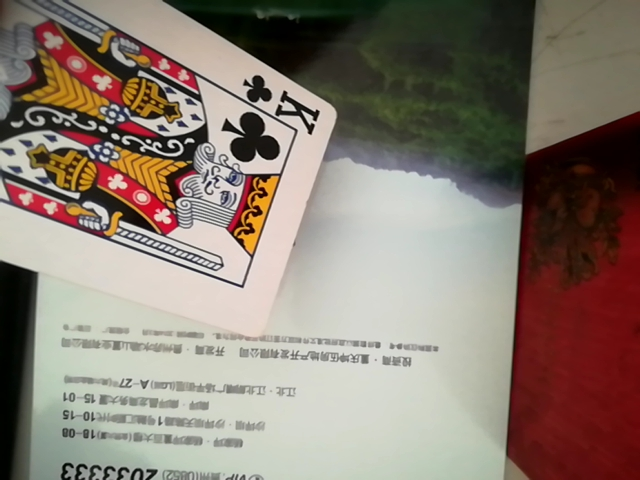mh k: (0, 1, 337, 337)
